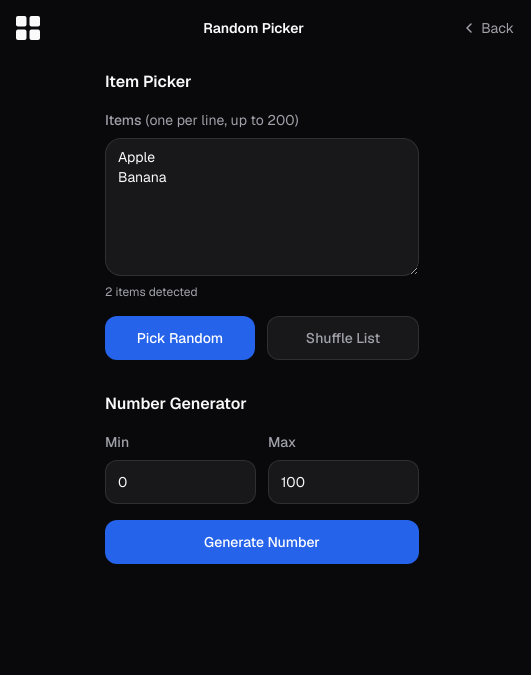
Scenario: RandomPickerTool › copy payload format › copy button is enabled with non-empty payload after picking an item
What coordinates should you click on to do the following:
click the button with aria-label "pick a random item"
I would click on:
 (180, 338)
Its box is [105,316,255,360].
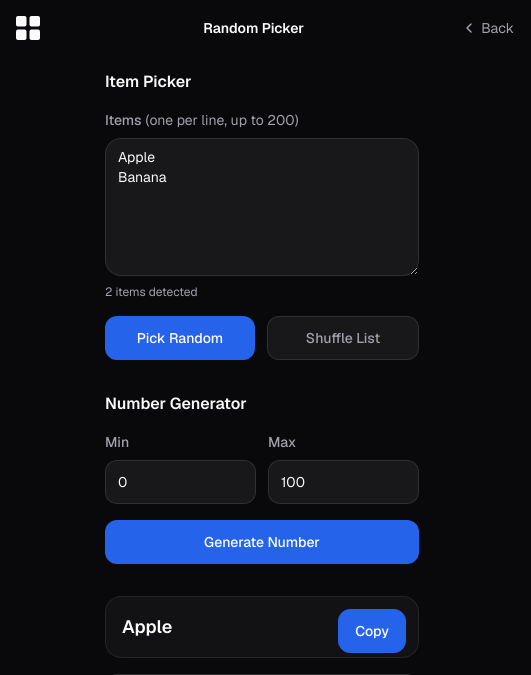
Now the button "Copy" is enabled, box [338,609,406,653]
